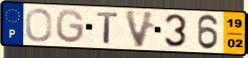3: (163, 13, 191, 50)
6: (197, 13, 220, 51)
G: (54, 8, 86, 45)
O: (24, 7, 53, 43)
T: (96, 11, 121, 45)
V: (123, 9, 158, 49)
